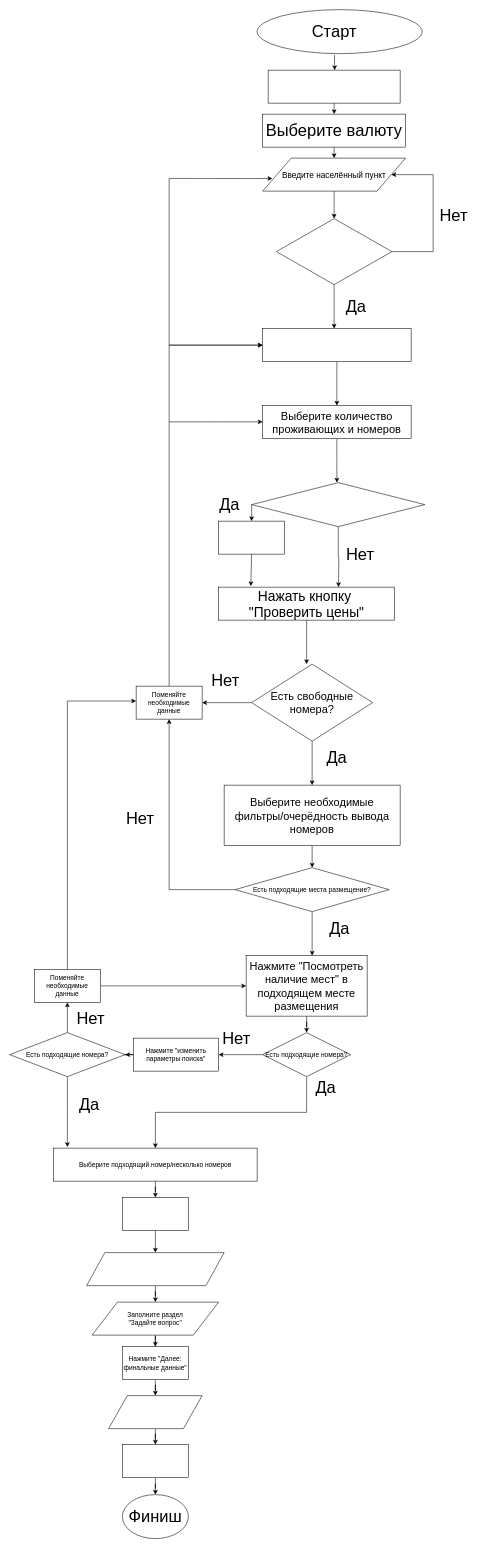
Some shapes in this 487 by 1548 pixel diagram are drawn without their labels. The centre of each missing label's shape, as x and y in pixels:
Введите банковские реквизиты: point (155, 1412)
Выберите даты заезда/отъезда: point (336, 345)
Выберите язык: point (334, 86)
Заполните раздел "Введите свои данные": point (155, 1269)
Нажмите "Забронировать": point (155, 1461)
Нажмите "я бронирую": point (155, 1214)
Населённый пункт найден?: point (334, 251)
поставить метку "я путешествую по работе": point (251, 537)
Путешествуете по работе?: point (338, 504)
